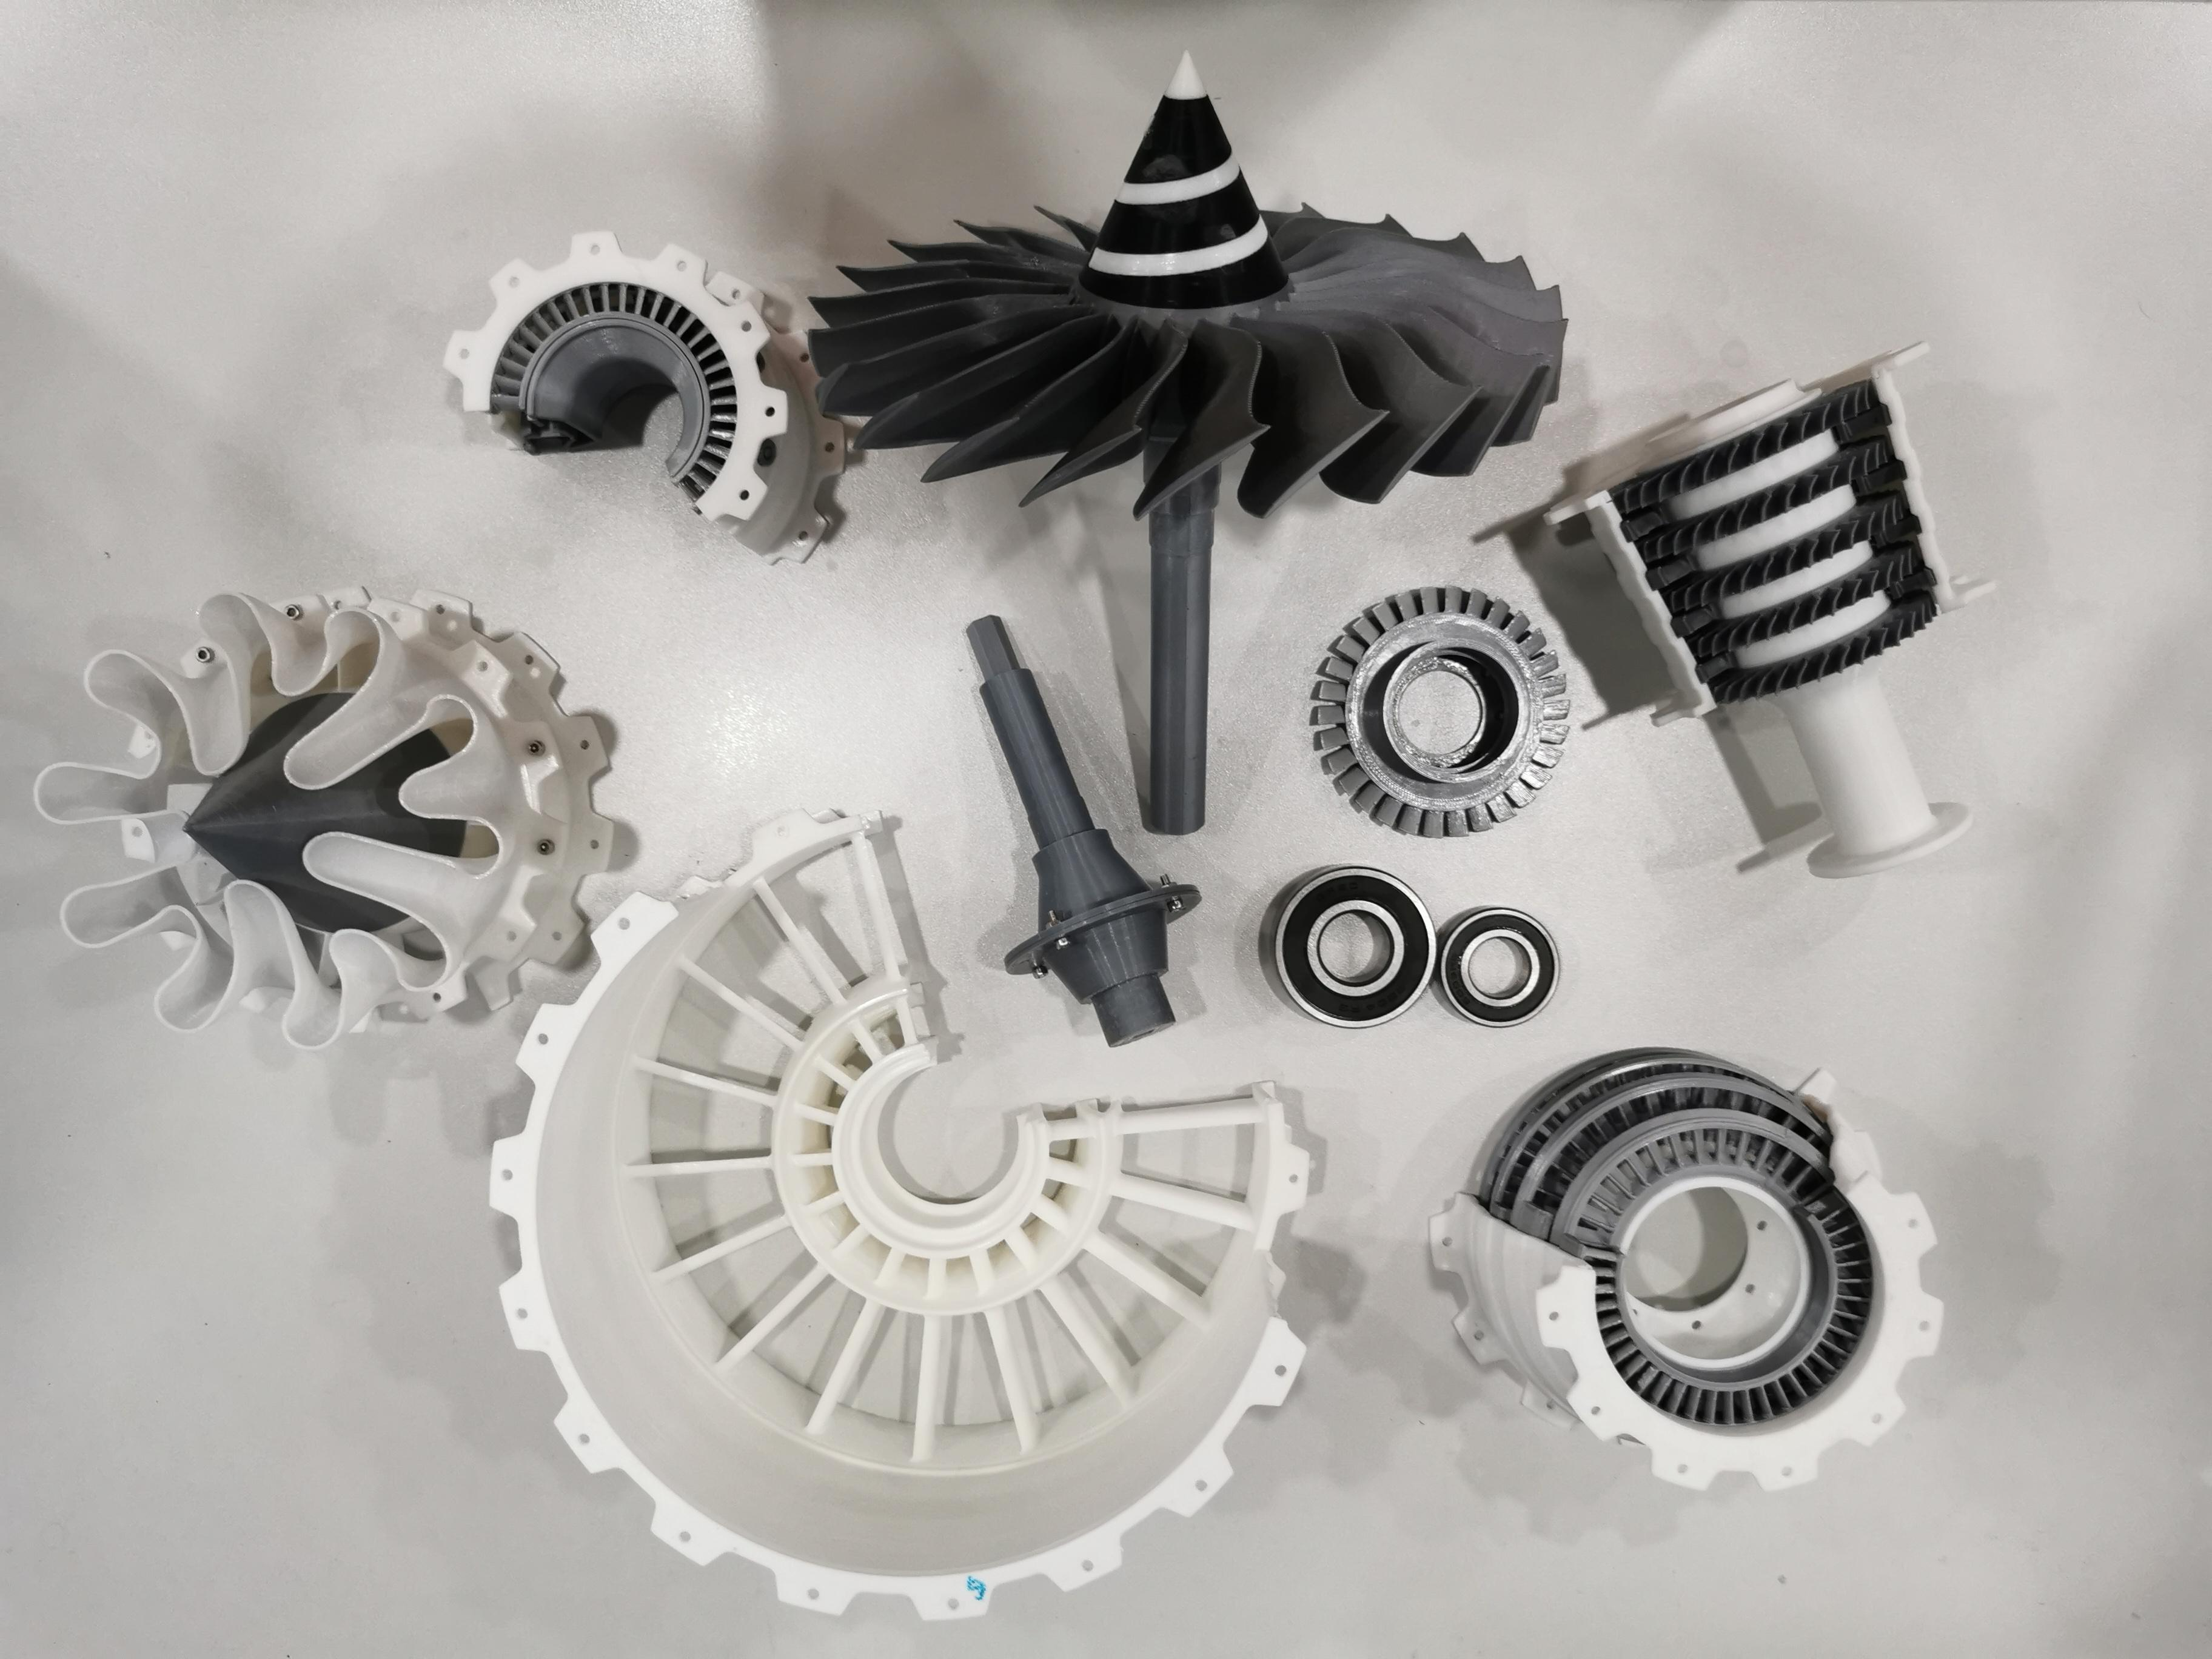Bearing-6003: (1439, 903, 1568, 1032)
Bearing-6204: (1270, 863, 1439, 1035)
Combustion Section: (425, 202, 857, 575)
Fan Casing and Support: (481, 800, 1317, 1631)
Fan and Low Pressure Shaft: (799, 45, 1575, 842)
HPT Section: (1301, 575, 1581, 850)
High Pressure Spool: (1540, 322, 2012, 889)
LPT Section: (1414, 1037, 1958, 1511)
Low Pressure Spool: (960, 599, 1207, 1054)
Nozzle Section: (19, 579, 613, 1056)
